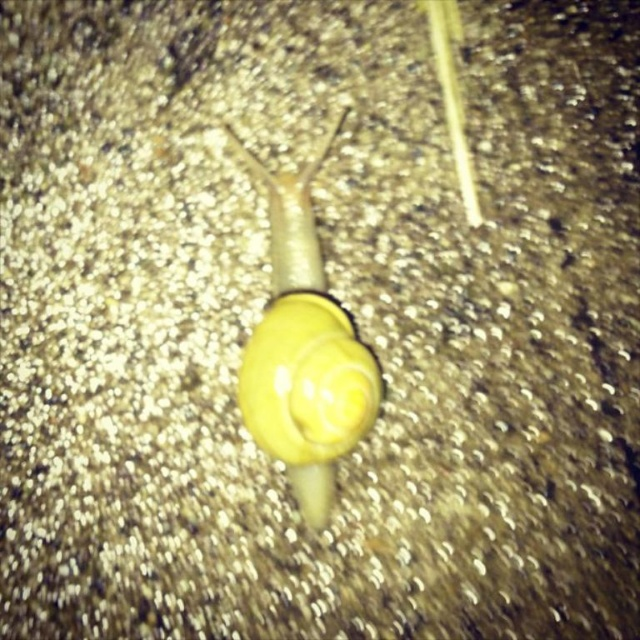Snail: (210, 106, 388, 534)
